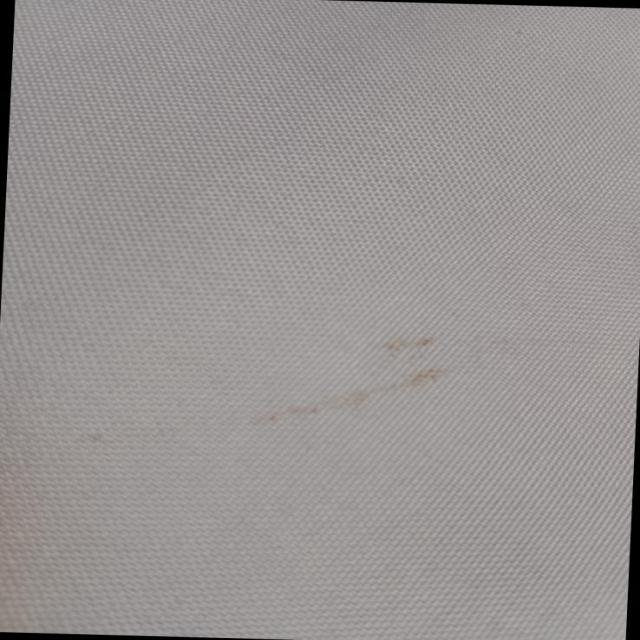stain: (237, 320, 485, 436)
